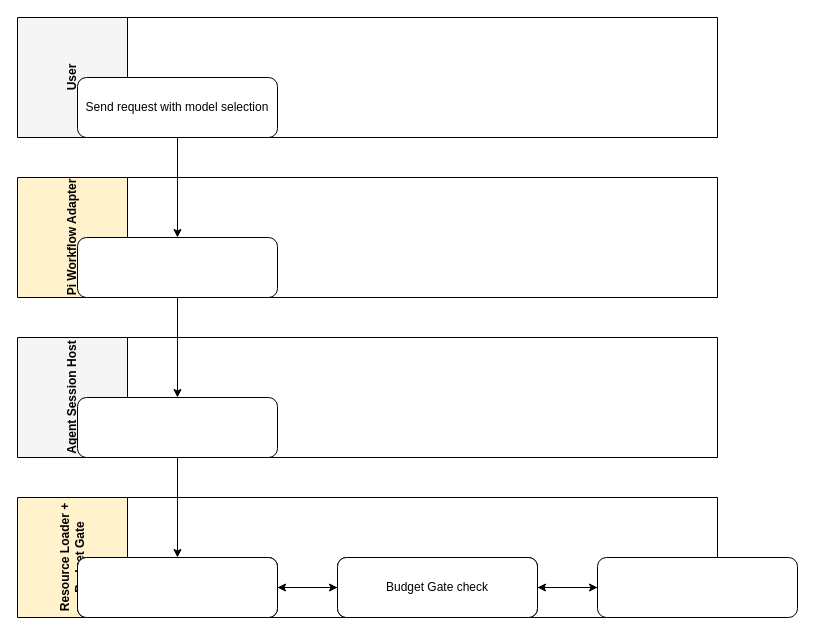
The diagram is 815 pixels wide and 635 high, and some of its shapes have lost their labels. Each missing label, with the centre of its shape:
"Compress if budget exceeded" goes at point 697,587.
"createHost with role/phase" goes at point 177,427.
"detectContextWindowEarly()" goes at point 177,267.
"Filter tool loadout by role" goes at point 177,587.
